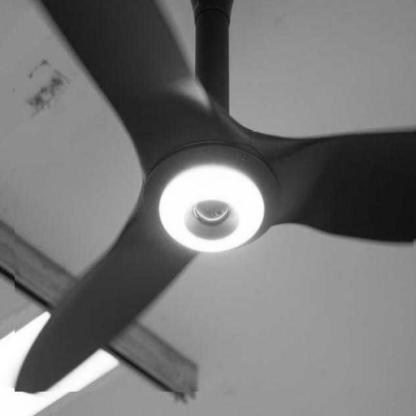ceiling-fan: (14, 0, 415, 393)
